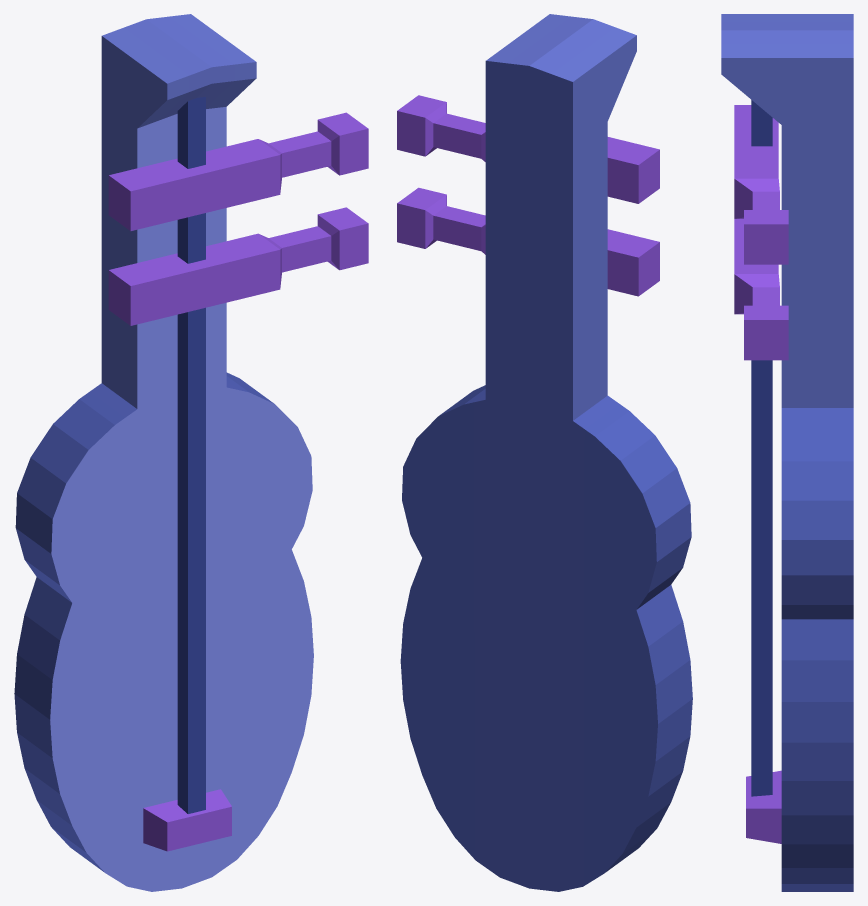
The model's file is Props_Instruments_Nyckelharpa.fbx.
The picture shows the model from 3 angles, left to right: view 1: azimuth 30°, elevation 25°; view 2: azimuth 150°, elevation 25°; view 3: azimuth 270°, elevation 25°; orthographic projection. The views are drawn at different scales.
Parts seen in each view (by area): view 1: Props_Instruments_Nyckelharpa; view 2: Props_Instruments_Nyckelharpa; view 3: Props_Instruments_Nyckelharpa.
Boxes of the visible parts, <box> form: Props_Instruments_Nyckelharpa: <box>14,14,368,891</box>; Props_Instruments_Nyckelharpa: <box>397,14,692,891</box>; Props_Instruments_Nyckelharpa: <box>721,14,853,891</box>.
Size of the model in its own units: 0.3492 by 0.9384 by 0.1323.
